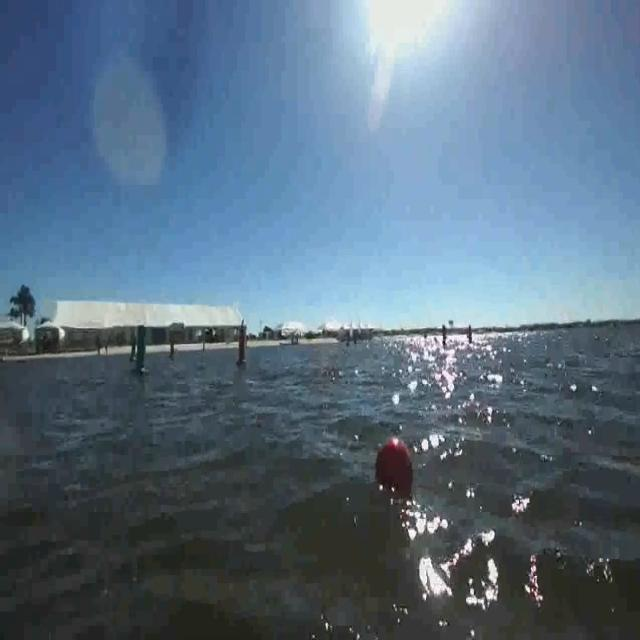green-column-buoy: (132, 324, 152, 376)
red-buoy: (374, 433, 414, 498)
red-column-buoy: (236, 327, 250, 368), (169, 335, 176, 361)
